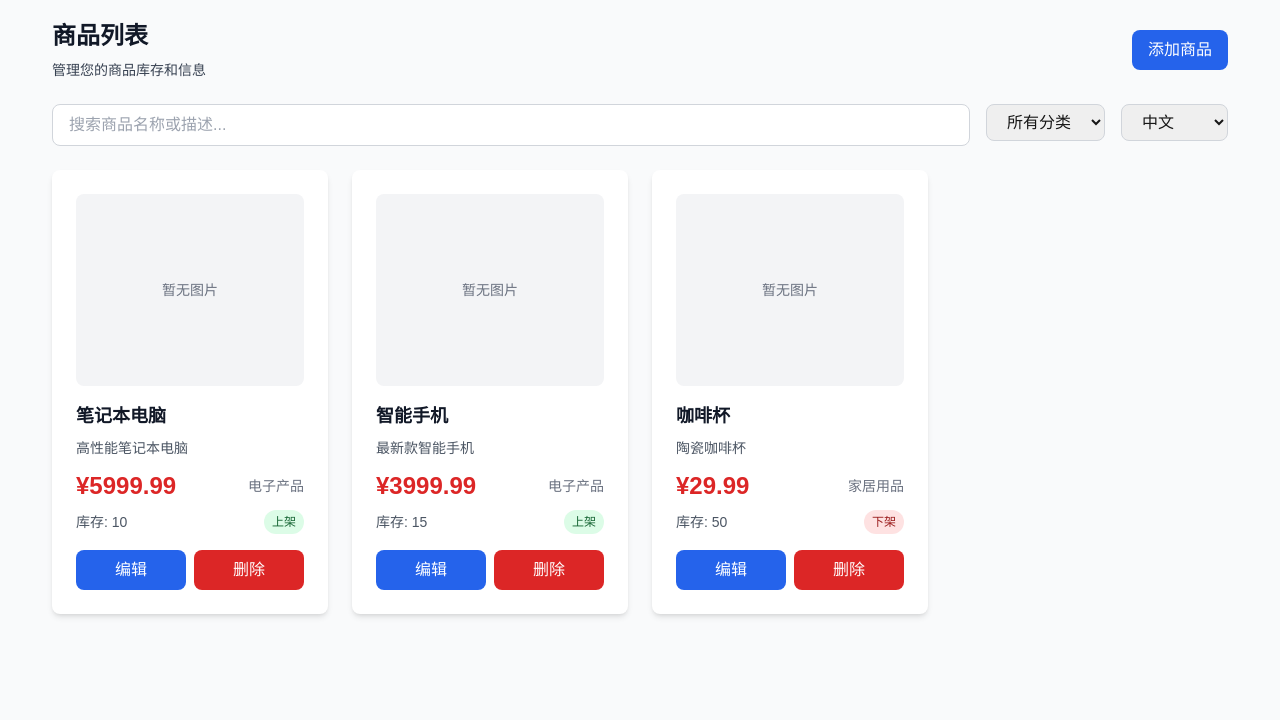
HomePage › opens modal when add product button is clicked
The image size is (1280, 720).
Expected: the heading "笔记本电脑" is shown, [76,406,166,426]
Click the button "添加商品".
click(1180, 50)  # box [1132,30,1228,70]
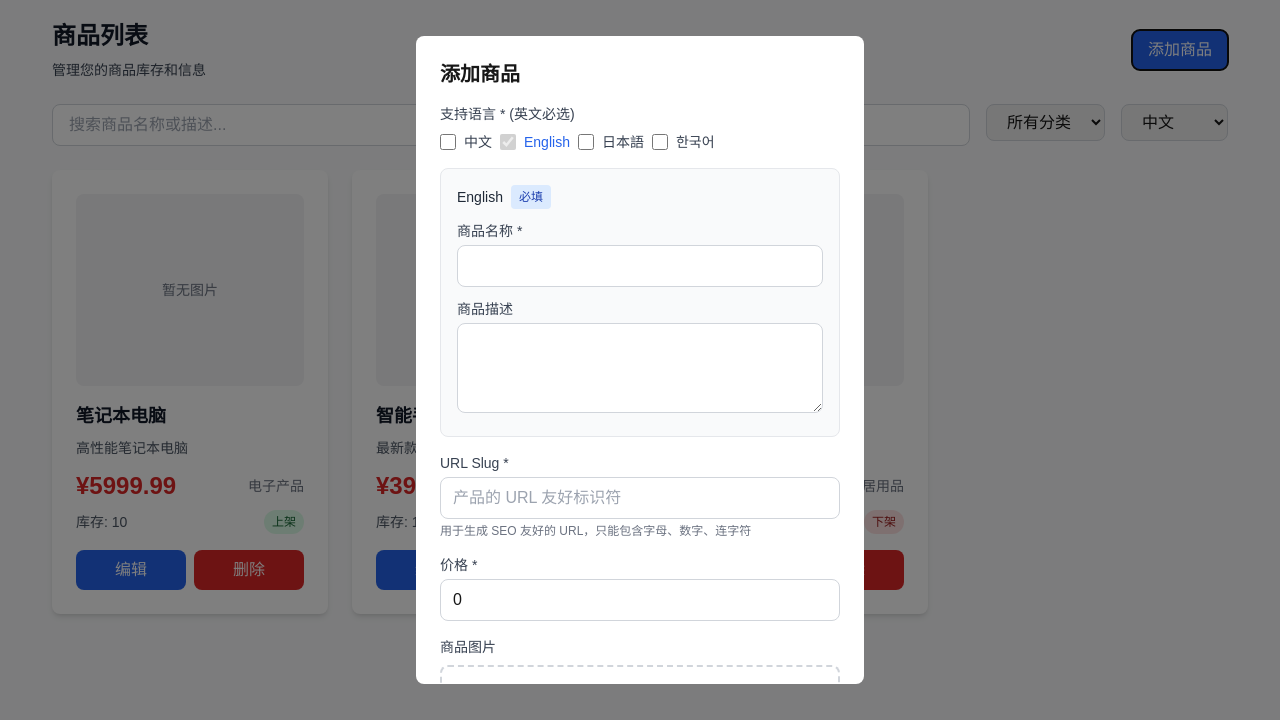
Expected: the heading "添加商品" is shown, [440,63,520,85]
